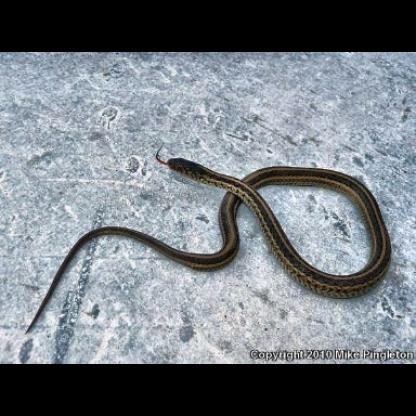Snake: (19, 133, 397, 301)
